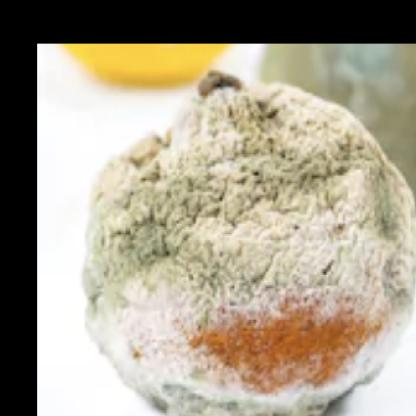rotten: (78, 67, 416, 416)
